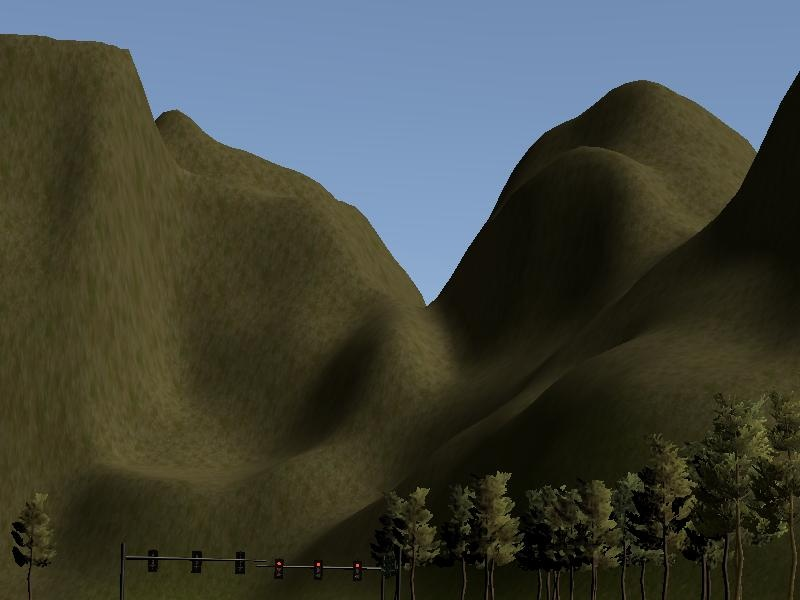red: (272, 556, 285, 581), (311, 557, 324, 580), (352, 557, 363, 581)
